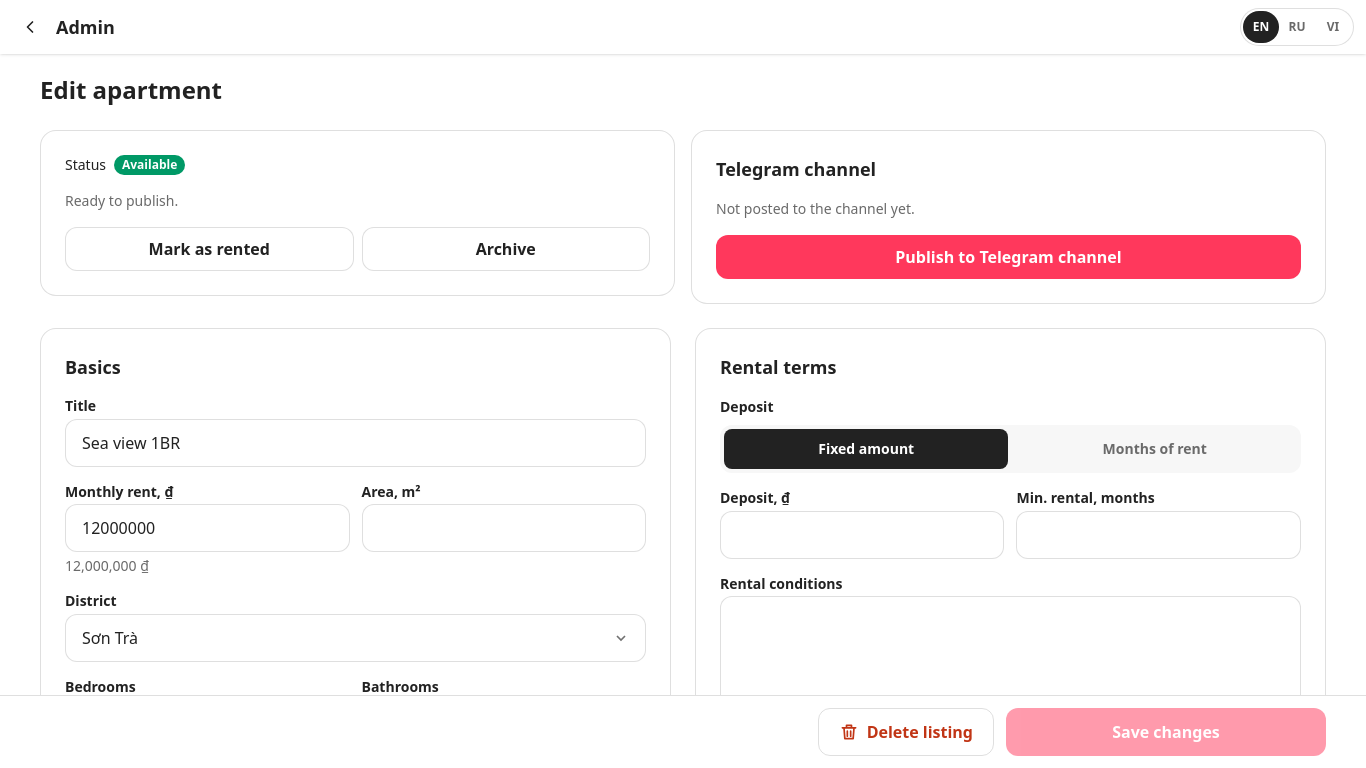
Telegram channel publishing › retries a lost connection with the same key, so no duplicate post is created
The image size is (1366, 768).
Click the button "Publish to Telegram channel" at (1008, 257), box [716,235,1301,279]
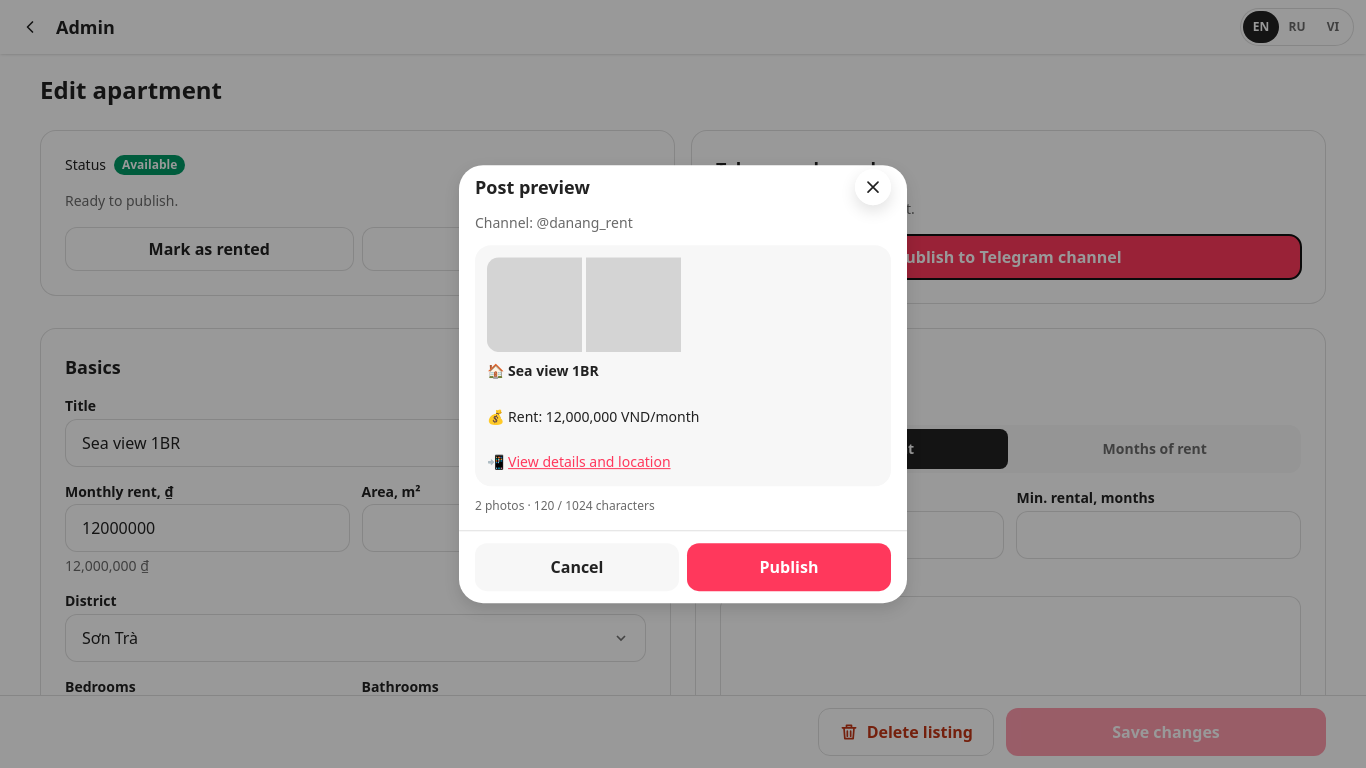
Click the button "Publish" at (789, 567), box [687,543,891,591]
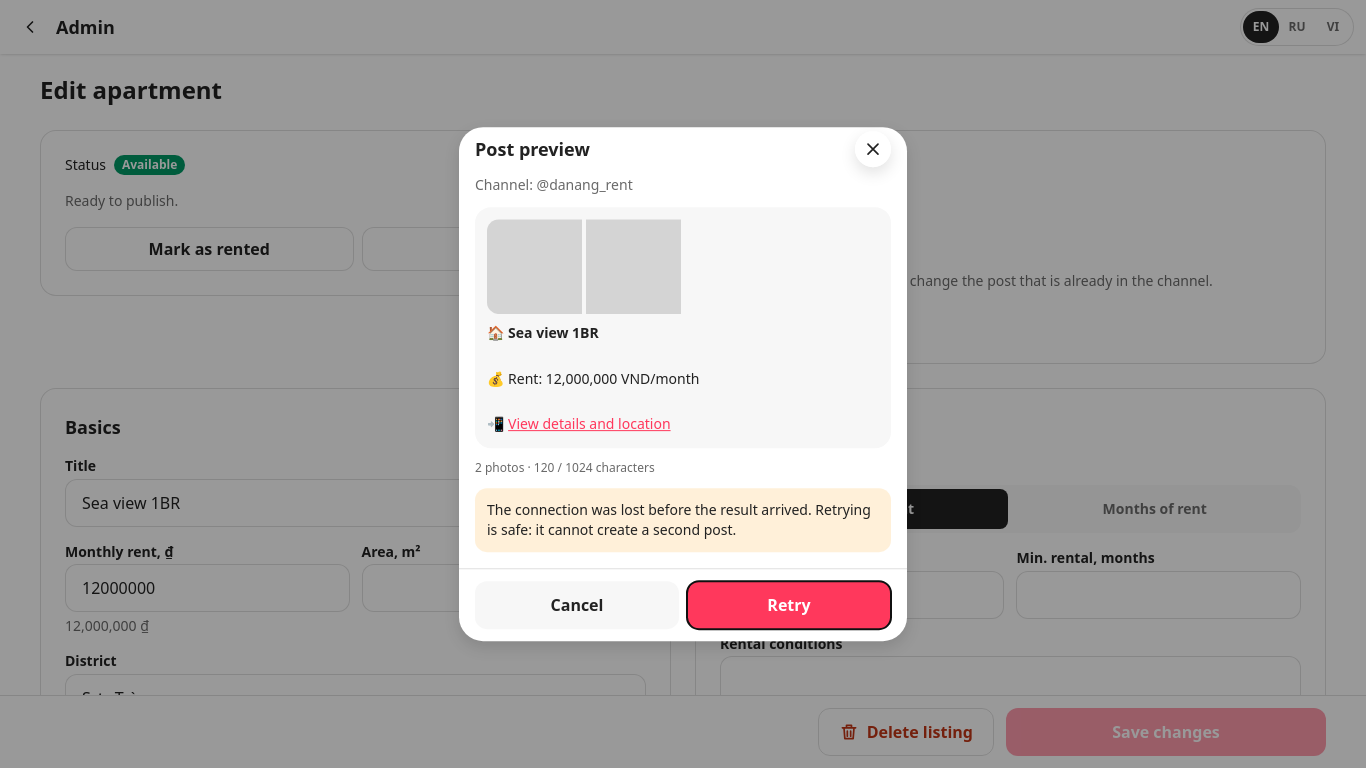
Check: the text "Retrying is safe" is shown, box [487,500,871,539]
Click the button "Retry" at (789, 605), box [687,581,891,629]
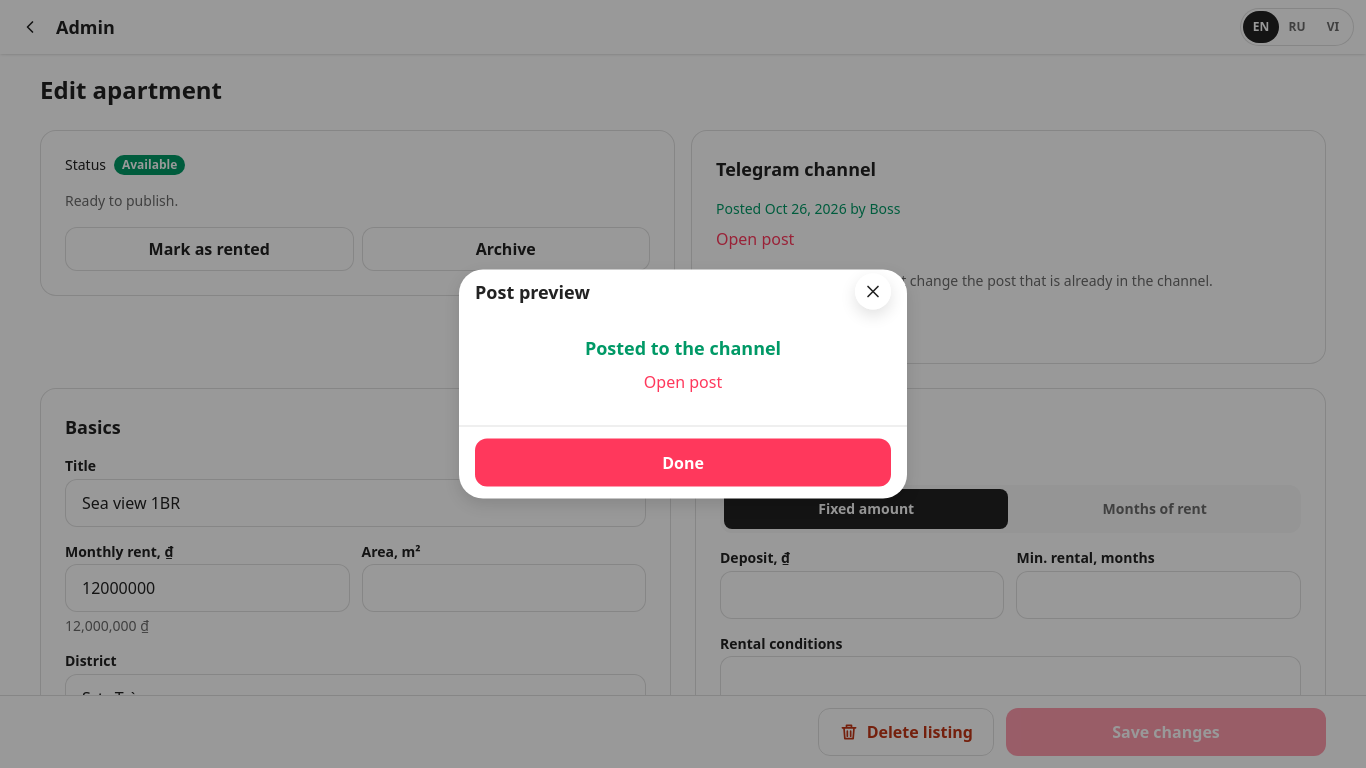
Check: the text "Posted to the channel" is shown, box [585,336,781,360]
